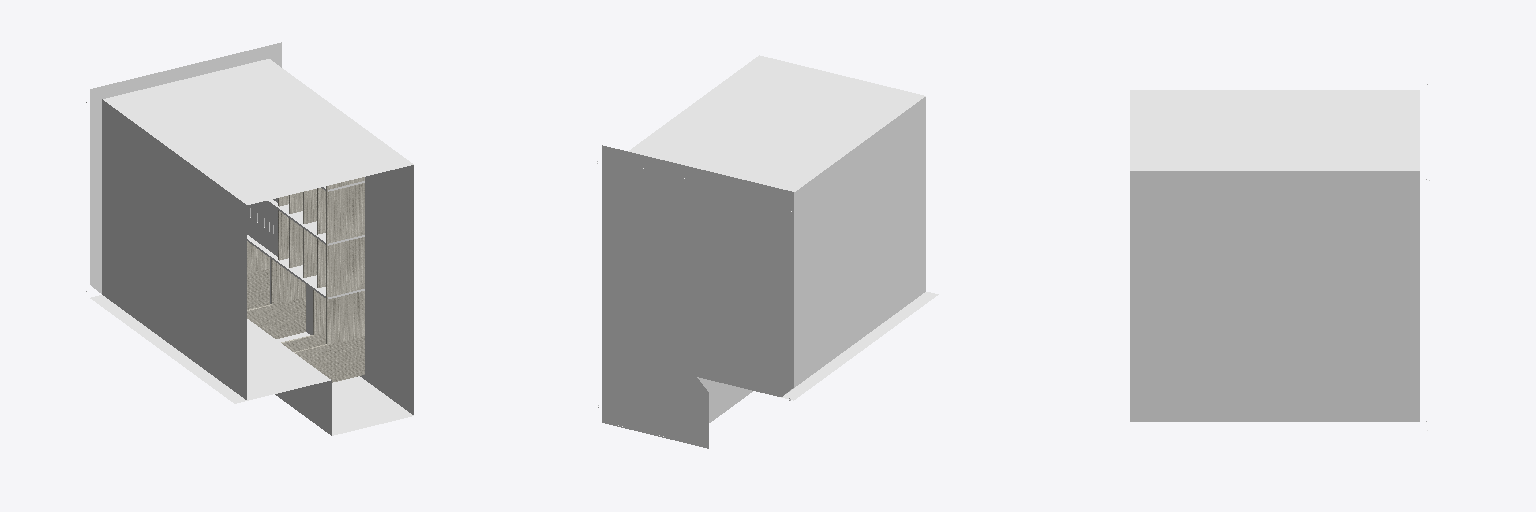
3 renders of one model, left to right at view 1: azimuth 30°, elevation 25°; view 2: azimuth 150°, elevation 25°; view 3: azimuth 270°, elevation 25°, orthographic.
Parts seen in each view (by area): view 1: Object_376, Object_377, Object_378, Object_381, Object_379, Object_383, Object_389, Object_326, Object_205, Object_86, Object_382, Object_355 (+8 smaller); view 2: Object_375, Object_376, Object_377, Object_385, Object_389, Object_383, Object_382, Object_387, Object_380, Object_391; view 3: Object_378, Object_377.
Boxes of the visible parts, x1,y1,x2,y2 form: Object_376: [102, 99, 246, 399]; Object_377: [103, 59, 413, 204]; Object_378: [360, 165, 413, 414]; Object_381: [247, 319, 330, 400]; Object_379: [332, 376, 413, 435]; Object_383: [90, 42, 281, 98]; Object_389: [90, 90, 101, 293]; Object_326: [295, 336, 364, 382]; Object_205: [328, 237, 364, 296]; Object_86: [328, 183, 364, 243]; Object_382: [90, 295, 246, 403]; Object_355: [247, 297, 305, 338]; Object_375: [614, 161, 780, 432]; Object_376: [786, 97, 925, 393]; Object_377: [628, 55, 925, 191]; Object_385: [602, 146, 613, 421]; Object_389: [781, 192, 793, 396]; Object_383: [602, 145, 792, 201]; Object_382: [781, 292, 938, 400]; Object_387: [602, 413, 708, 448]; Object_380: [697, 377, 752, 422]; Object_391: [697, 378, 708, 447]; Object_378: [1130, 171, 1419, 421]; Object_377: [1130, 90, 1419, 170].
Size of the model in its own units: 3110 by 4225 by 4125.
Materials: 11 (1 with a texture image).